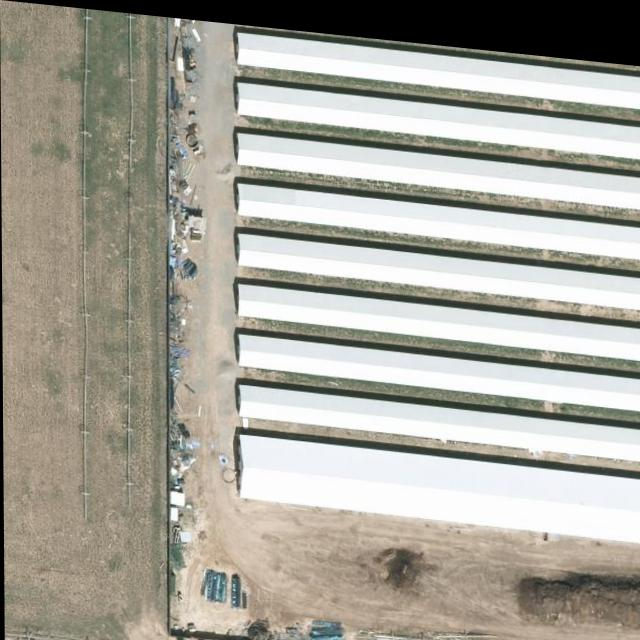vehicle: (190, 211, 204, 240)
